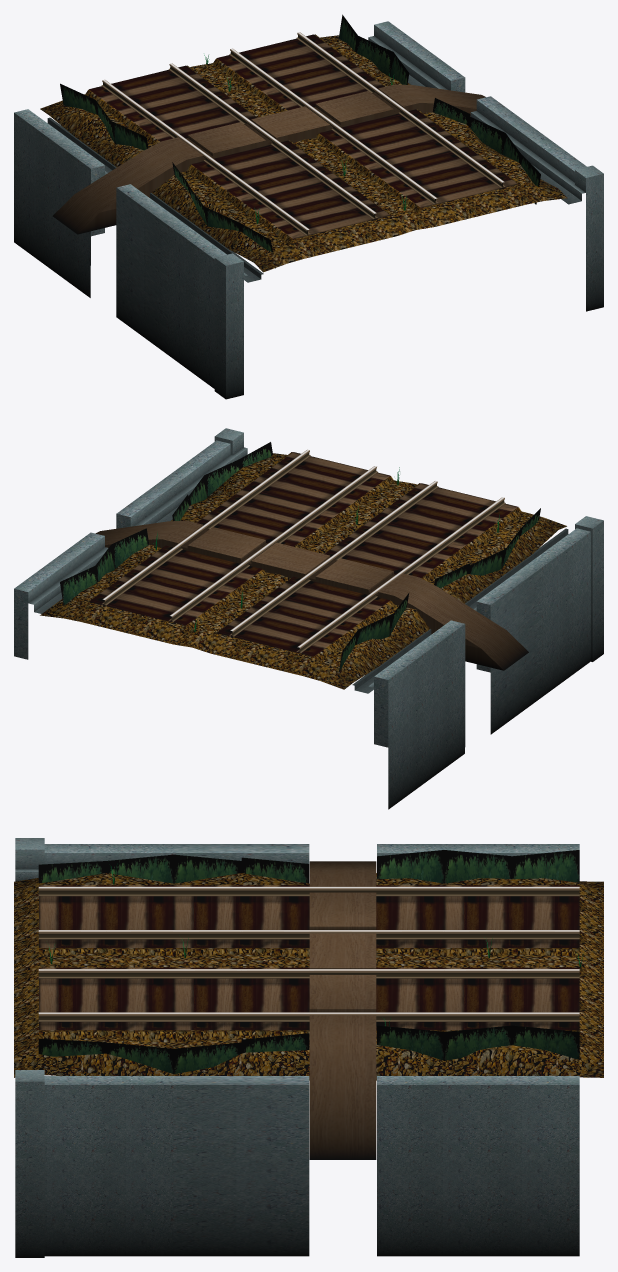
Rendered from K_HUMIKIRI25_1.glb.
3 renders of one model, top to bottom at view 1: azimuth 30°, elevation 25°; view 2: azimuth 150°, elevation 25°; view 3: azimuth 270°, elevation 25°, orthographic. The views are drawn at different scales.
Parts seen in each view (by area): view 1: rail, obj3, last; view 2: rail, obj3, last; view 3: rail, obj3, last.
Boxes of the visible parts, x1,y1,x2,y2 form: rail: (14, 14, 586, 388); obj3: (52, 84, 485, 234); last: (214, 165, 603, 399); rail: (14, 440, 590, 809); obj3: (95, 520, 528, 670); last: (214, 428, 603, 661); rail: (14, 844, 603, 1256); obj3: (309, 861, 376, 1159); last: (15, 838, 44, 1257).
Size of the model in its own units: 31.81 by 10.11 by 27.26.
Materials: 14 (14 with a texture image).
